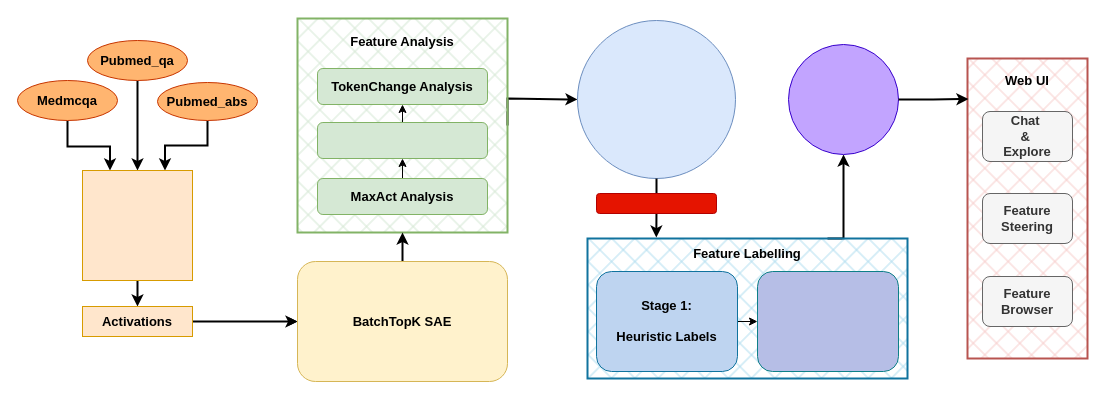
This 1106x399 diagram has some shape labels left out. Here are the shapes that lost their labels. From the top down, the centre of each, then its label:
the point at 656,99: Features
the point at 843,99: Labelled Features
the point at 402,140: VocabProj Analysis
the point at 656,203: Quality Score
the point at 137,225: Llama 3.2 1B Instruct
the point at 827,321: Stage 2: LLM Semantic Labels (GPT 4o-mini)
